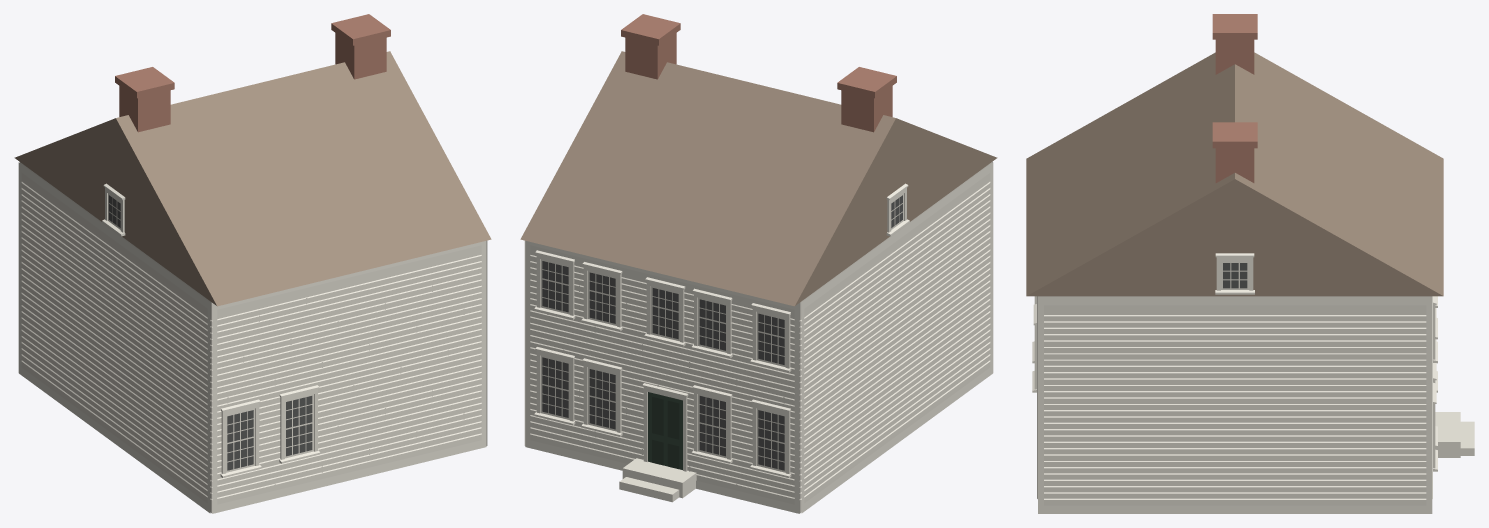
The model's file is recon_1835_blk_randolph_clinton_d7_08__inferred_1835.glb.
3 views of the same model, side by side, from view 1: azimuth 30°, elevation 25°; view 2: azimuth 150°, elevation 25°; view 3: azimuth 270°, elevation 25° (orthographic). The views are drawn at different scales.
Visible parts, largest first — view 1: recon_1835_blk_randolph_clinton_d7_08__inferred_1835; view 2: recon_1835_blk_randolph_clinton_d7_08__inferred_1835; view 3: recon_1835_blk_randolph_clinton_d7_08__inferred_1835.
Part boxes in pixels (<box>): recon_1835_blk_randolph_clinton_d7_08__inferred_1835: <box>14,14,491,513</box>; recon_1835_blk_randolph_clinton_d7_08__inferred_1835: <box>520,14,997,513</box>; recon_1835_blk_randolph_clinton_d7_08__inferred_1835: <box>1026,14,1474,513</box>.
Bounding box in the file's own units: 7.3 × 8.81 × 9.75.
